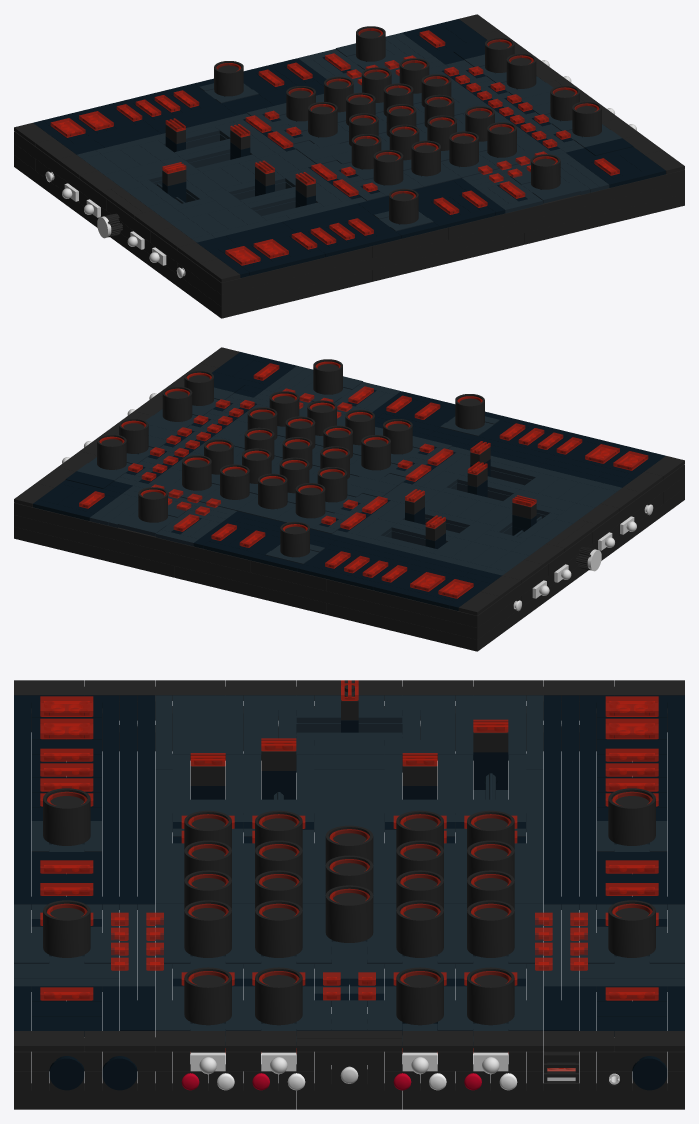
Rendered from RK_TKZ4_ProtoRed.dae.
The picture shows the model from 3 angles, top to bottom: view 1: azimuth 30°, elevation 25°; view 2: azimuth 150°, elevation 25°; view 3: azimuth 270°, elevation 25°; orthographic projection. The views are drawn at different scales.
Parts seen in each view (by area): view 1: Inner-Node-TraktorKontrolZ4__ProtoRed2_dot_io-591, Inner-Node-TraktorKontrolZ4__ProtoRed2_dot_io-592, Inner-Node-TraktorKontrolZ4__ProtoRed2_dot_io-716, Inner-Node-TraktorKontrolZ4__ProtoRed2_dot_io-708, Inner-Node-TraktorKontrolZ4__ProtoRed2_dot_io-715, Inner-Node-TraktorKontrolZ4__ProtoRed2_dot_io-709, Inner-Node-TraktorKontrolZ4__ProtoRed2_dot_io-714, Inner-Node-TraktorKontrolZ4__ProtoRed2_dot_io-707, Inner-Node-TraktorKontrolZ4__ProtoRed2_dot_io-111, Inner-Node-TraktorKontrolZ4__ProtoRed2_dot_io-324, Inner-Node-TraktorKontrolZ4__ProtoRed2_dot_io-514, Inner-Node-TraktorKontrolZ4__ProtoRed2_dot_io-305 (+43 smaller); view 2: Inner-Node-TraktorKontrolZ4__ProtoRed2_dot_io-586, Inner-Node-TraktorKontrolZ4__ProtoRed2_dot_io-587, Inner-Node-TraktorKontrolZ4__ProtoRed2_dot_io-713, Inner-Node-TraktorKontrolZ4__ProtoRed2_dot_io-706, Inner-Node-TraktorKontrolZ4__ProtoRed2_dot_io-712, Inner-Node-TraktorKontrolZ4__ProtoRed2_dot_io-710, Inner-Node-TraktorKontrolZ4__ProtoRed2_dot_io-711, Inner-Node-TraktorKontrolZ4__ProtoRed2_dot_io-705, Inner-Node-TraktorKontrolZ4__ProtoRed2_dot_io-117, Inner-Node-TraktorKontrolZ4__ProtoRed2_dot_io-301, Inner-Node-TraktorKontrolZ4__ProtoRed2_dot_io-467, Inner-Node-TraktorKontrolZ4__ProtoRed2_dot_io-309 (+43 smaller); view 3: Inner-Node-TraktorKontrolZ4__ProtoRed2_dot_io-737, Inner-Node-TraktorKontrolZ4__ProtoRed2_dot_io-738, Inner-Node-TraktorKontrolZ4__ProtoRed2_dot_io-358, Inner-Node-TraktorKontrolZ4__ProtoRed2_dot_io-107, Inner-Node-TraktorKontrolZ4__ProtoRed2_dot_io-111, Inner-Node-TraktorKontrolZ4__ProtoRed2_dot_io-117, Inner-Node-TraktorKontrolZ4__ProtoRed2_dot_io-138, Inner-Node-TraktorKontrolZ4__ProtoRed2_dot_io-215, Inner-Node-TraktorKontrolZ4__ProtoRed2_dot_io-219, Inner-Node-TraktorKontrolZ4__ProtoRed2_dot_io-467, Inner-Node-TraktorKontrolZ4__ProtoRed2_dot_io-514, Inner-Node-TraktorKontrolZ4__ProtoRed2_dot_io-211 (+198 smaller).
Boxes of the visible parts, left/top/right/bottom form: Inner-Node-TraktorKontrolZ4__ProtoRed2_dot_io-591: left=216, top=246, right=372, bottom=294; Inner-Node-TraktorKontrolZ4__ProtoRed2_dot_io-592: left=533, top=170, right=684, bottom=218; Inner-Node-TraktorKontrolZ4__ProtoRed2_dot_io-716: left=216, top=270, right=372, bottom=318; Inner-Node-TraktorKontrolZ4__ProtoRed2_dot_io-708: left=382, top=219, right=533, bottom=267; Inner-Node-TraktorKontrolZ4__ProtoRed2_dot_io-715: left=372, top=233, right=523, bottom=281; Inner-Node-TraktorKontrolZ4__ProtoRed2_dot_io-709: left=231, top=256, right=382, bottom=304; Inner-Node-TraktorKontrolZ4__ProtoRed2_dot_io-714: left=524, top=196, right=675, bottom=244; Inner-Node-TraktorKontrolZ4__ProtoRed2_dot_io-707: left=533, top=182, right=684, bottom=230; Inner-Node-TraktorKontrolZ4__ProtoRed2_dot_io-111: left=506, top=53, right=536, bottom=88; Inner-Node-TraktorKontrolZ4__ProtoRed2_dot_io-324: left=373, top=150, right=403, bottom=185; Inner-Node-TraktorKontrolZ4__ProtoRed2_dot_io-514: left=389, top=188, right=418, bottom=224; Inner-Node-TraktorKontrolZ4__ProtoRed2_dot_io-305: left=308, top=102, right=337, bottom=137; Inner-Node-TraktorKontrolZ4__ProtoRed2_dot_io-586: left=326, top=579, right=482, bottom=627; Inner-Node-TraktorKontrolZ4__ProtoRed2_dot_io-587: left=14, top=503, right=165, bottom=551; Inner-Node-TraktorKontrolZ4__ProtoRed2_dot_io-713: left=326, top=603, right=482, bottom=651; Inner-Node-TraktorKontrolZ4__ProtoRed2_dot_io-706: left=165, top=552, right=316, bottom=600; Inner-Node-TraktorKontrolZ4__ProtoRed2_dot_io-712: left=175, top=566, right=326, bottom=614; Inner-Node-TraktorKontrolZ4__ProtoRed2_dot_io-710: left=316, top=589, right=467, bottom=637; Inner-Node-TraktorKontrolZ4__ProtoRed2_dot_io-711: left=23, top=529, right=174, bottom=577; Inner-Node-TraktorKontrolZ4__ProtoRed2_dot_io-705: left=14, top=515, right=165, bottom=563; Inner-Node-TraktorKontrolZ4__ProtoRed2_dot_io-117: left=162, top=386, right=192, bottom=421; Inner-Node-TraktorKontrolZ4__ProtoRed2_dot_io-301: left=295, top=483, right=325, bottom=518; Inner-Node-TraktorKontrolZ4__ProtoRed2_dot_io-467: left=280, top=521, right=309, bottom=557; Inner-Node-TraktorKontrolZ4__ProtoRed2_dot_io-309: left=361, top=435, right=390, bottom=470; Inner-Node-TraktorKontrolZ4__ProtoRed2_dot_io-737: left=14, top=1083, right=296, bottom=1109; Inner-Node-TraktorKontrolZ4__ProtoRed2_dot_io-738: left=402, top=1083, right=684, bottom=1109; Inner-Node-TraktorKontrolZ4__ProtoRed2_dot_io-358: left=325, top=885, right=373, bottom=942; Inner-Node-TraktorKontrolZ4__ProtoRed2_dot_io-107: left=467, top=967, right=514, bottom=1025; Inner-Node-TraktorKontrolZ4__ProtoRed2_dot_io-111: left=396, top=967, right=443, bottom=1025; Inner-Node-TraktorKontrolZ4__ProtoRed2_dot_io-117: left=255, top=967, right=302, bottom=1025; Inner-Node-TraktorKontrolZ4__ProtoRed2_dot_io-138: left=184, top=967, right=231, bottom=1025; Inner-Node-TraktorKontrolZ4__ProtoRed2_dot_io-215: left=396, top=900, right=443, bottom=957; Inner-Node-TraktorKontrolZ4__ProtoRed2_dot_io-219: left=255, top=900, right=302, bottom=957; Inner-Node-TraktorKontrolZ4__ProtoRed2_dot_io-467: left=608, top=788, right=655, bottom=845; Inner-Node-TraktorKontrolZ4__ProtoRed2_dot_io-514: left=43, top=788, right=90, bottom=845; Inner-Node-TraktorKontrolZ4__ProtoRed2_dot_io-211: left=467, top=900, right=514, bottom=957.
Size of the model in its own units: 1036 by 128 by 760.
